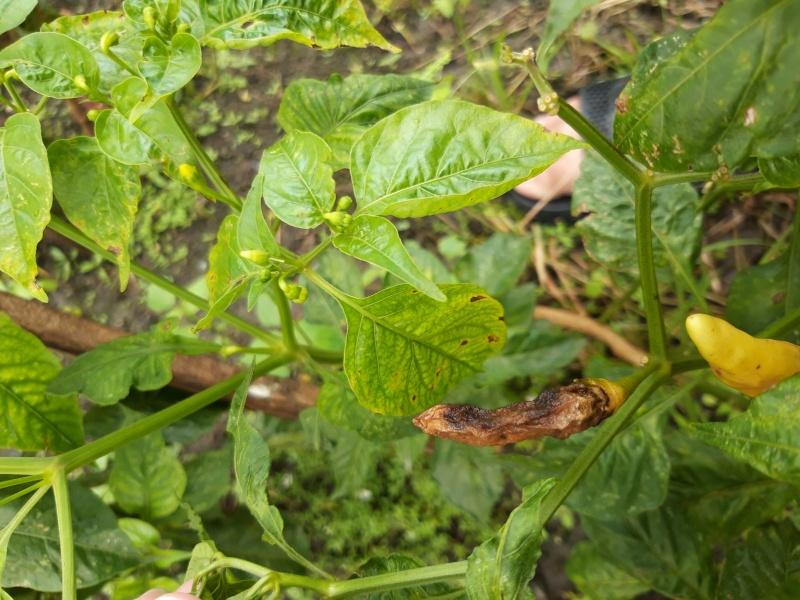antraknosa: (412, 376, 614, 452)
cabai_normal: (686, 310, 800, 400)
